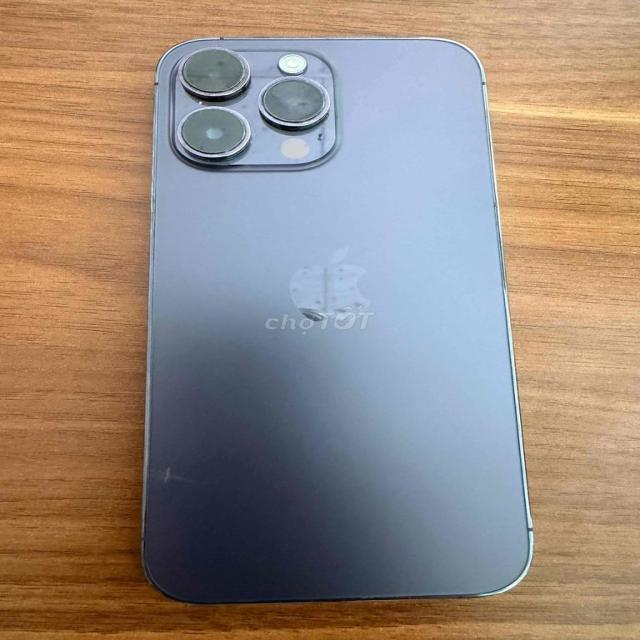gen_14: (117, 22, 554, 611)
